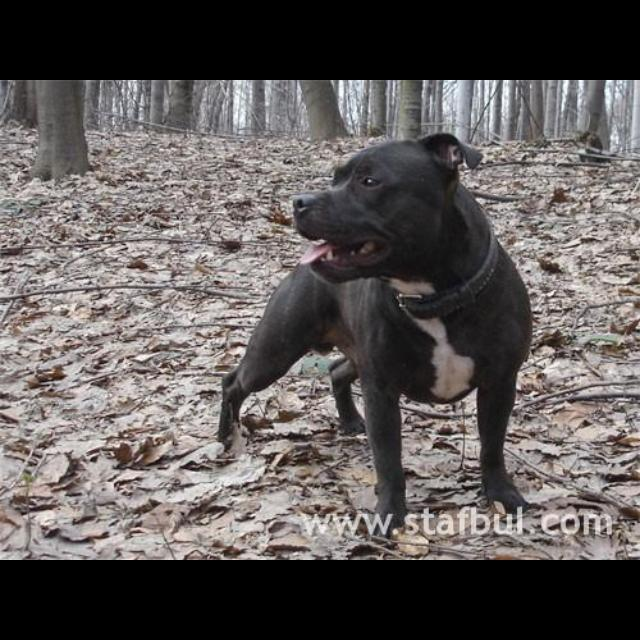staffford: (216, 132, 534, 535)
